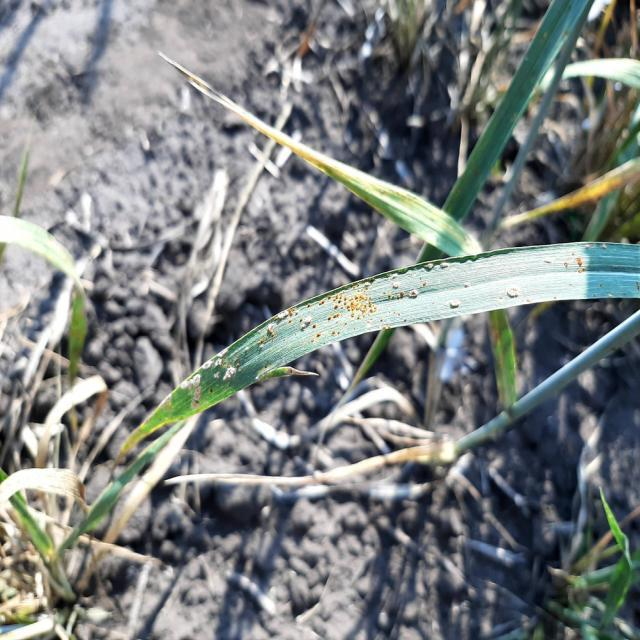wheat-powdery-mildew: (172, 349, 248, 405)
